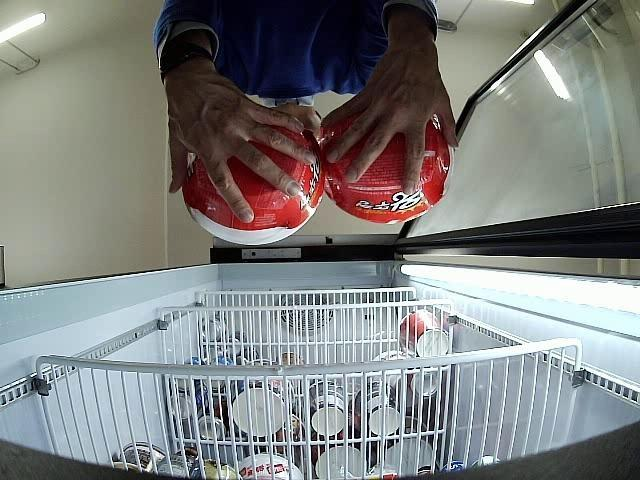10_wangTtukkeong: (182, 126, 326, 245), (323, 114, 453, 223)
